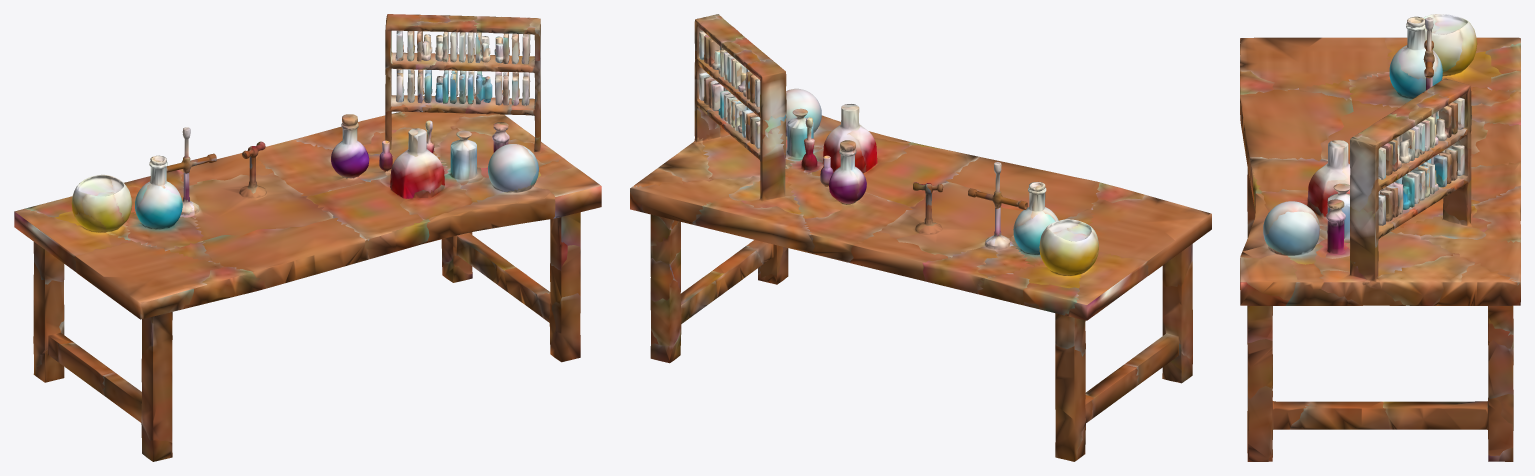
The model's file is lab-bench.glb.
The picture shows the model from 3 angles, left to right: view 1: azimuth 30°, elevation 25°; view 2: azimuth 150°, elevation 25°; view 3: azimuth 270°, elevation 25°; orthographic projection. The views are drawn at different scales.
Bounding box in the file's own units: 1.9 × 1.16 × 0.9005.
1 material, 1 textured.
